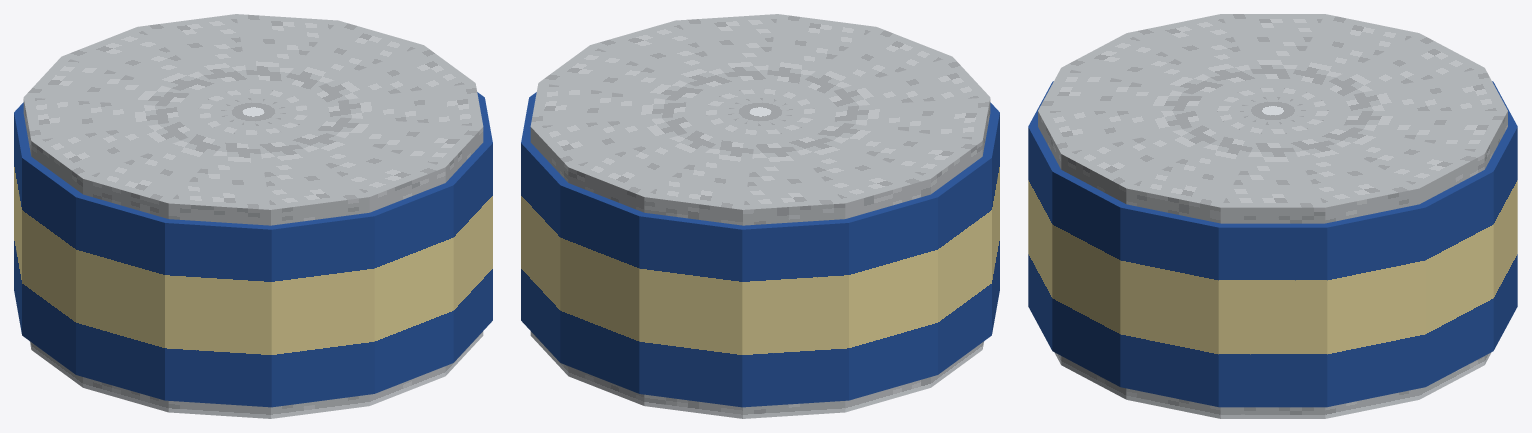
The model's file is can_food.glb.
The picture shows the model from 3 angles, left to right: view 1: azimuth 30°, elevation 25°; view 2: azimuth 150°, elevation 25°; view 3: azimuth 270°, elevation 25°; orthographic projection.
Visible parts, largest first — view 1: block_body, block_top, block_bottom; view 2: block_body, block_top, block_bottom; view 3: block_body, block_top, block_bottom.
Boxes of the visible parts, x1,y1,x2,y2 form: block_body: [14, 92, 492, 407]; block_top: [23, 14, 483, 225]; block_bottom: [30, 331, 483, 418]; block_body: [521, 92, 999, 407]; block_top: [530, 14, 990, 225]; block_bottom: [530, 331, 983, 418]; block_body: [1028, 81, 1517, 407]; block_top: [1038, 14, 1507, 223]; block_bottom: [1054, 352, 1491, 418].
Bounding box in the file's own units: 0.0819 × 0.04 × 0.084.
2 materials, 2 textured.
